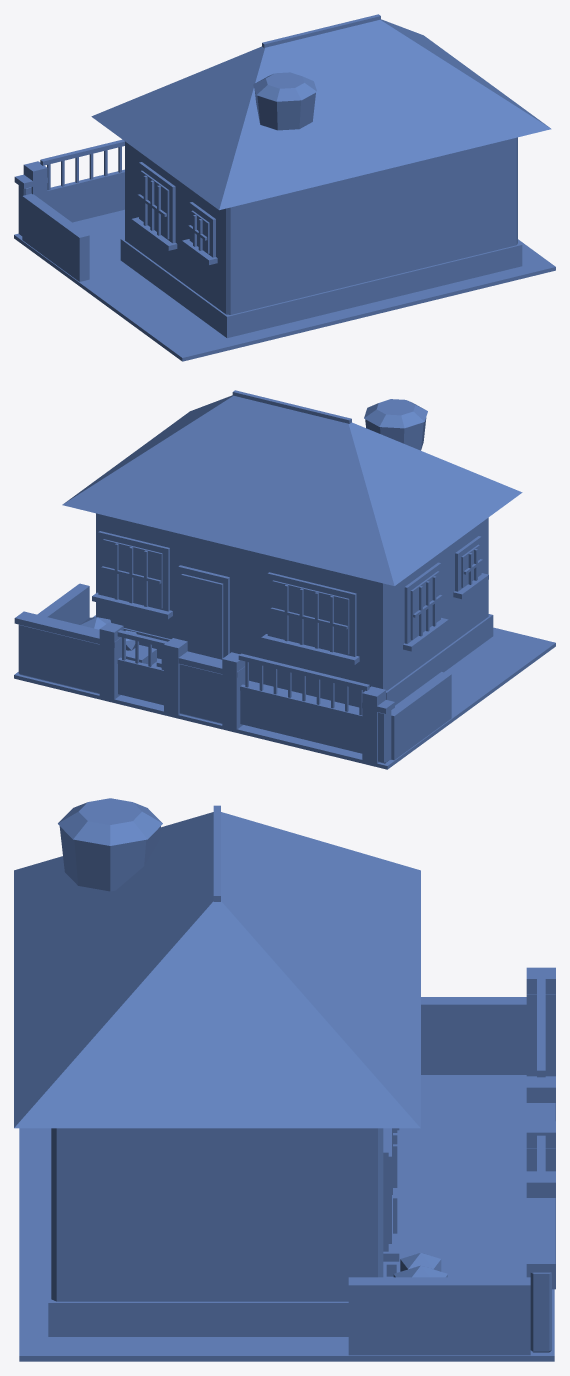
The picture shows the model from 3 angles, top to bottom: view 1: azimuth 30°, elevation 25°; view 2: azimuth 150°, elevation 25°; view 3: azimuth 270°, elevation 25°; orthographic projection. The views are drawn at different scales.
Visible parts, largest first — view 1: corpo; view 2: corpo; view 3: corpo.
Part boxes in pixels (box(x1,y1,x2,y2)): corpo: box(14, 14, 555, 361); corpo: box(14, 390, 555, 769); corpo: box(14, 798, 555, 1361).
Size of the model in its own units: 1.28 by 0.778 by 1.01.
